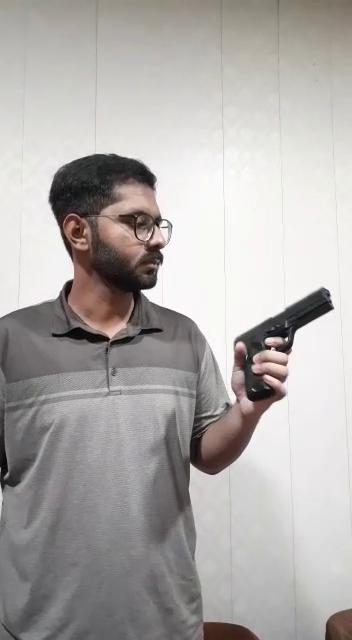criminal: (0, 147, 352, 640)
weapon: (230, 285, 335, 402)
